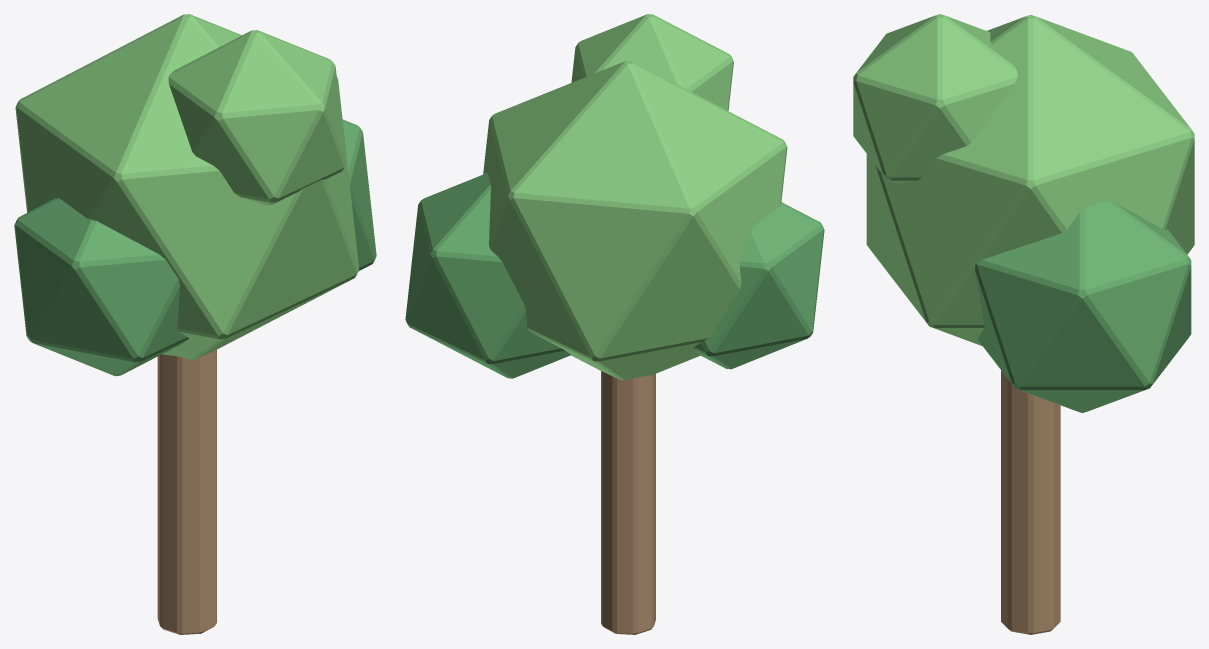
The picture shows the model from 3 angles, left to right: view 1: azimuth 30°, elevation 25°; view 2: azimuth 150°, elevation 25°; view 3: azimuth 270°, elevation 25°; orthographic projection. The views are drawn at different scales.
Parts seen in each view (by area): view 1: GardenTree; view 2: GardenTree; view 3: GardenTree.
Boxes of the visible parts, left/top/right/bottom form: GardenTree: left=14, top=14, right=376, bottom=634; GardenTree: left=405, top=14, right=824, bottom=634; GardenTree: left=853, top=14, right=1194, bottom=634.
Bounding box in the file's own units: 1.69 × 2.64 × 1.32.
